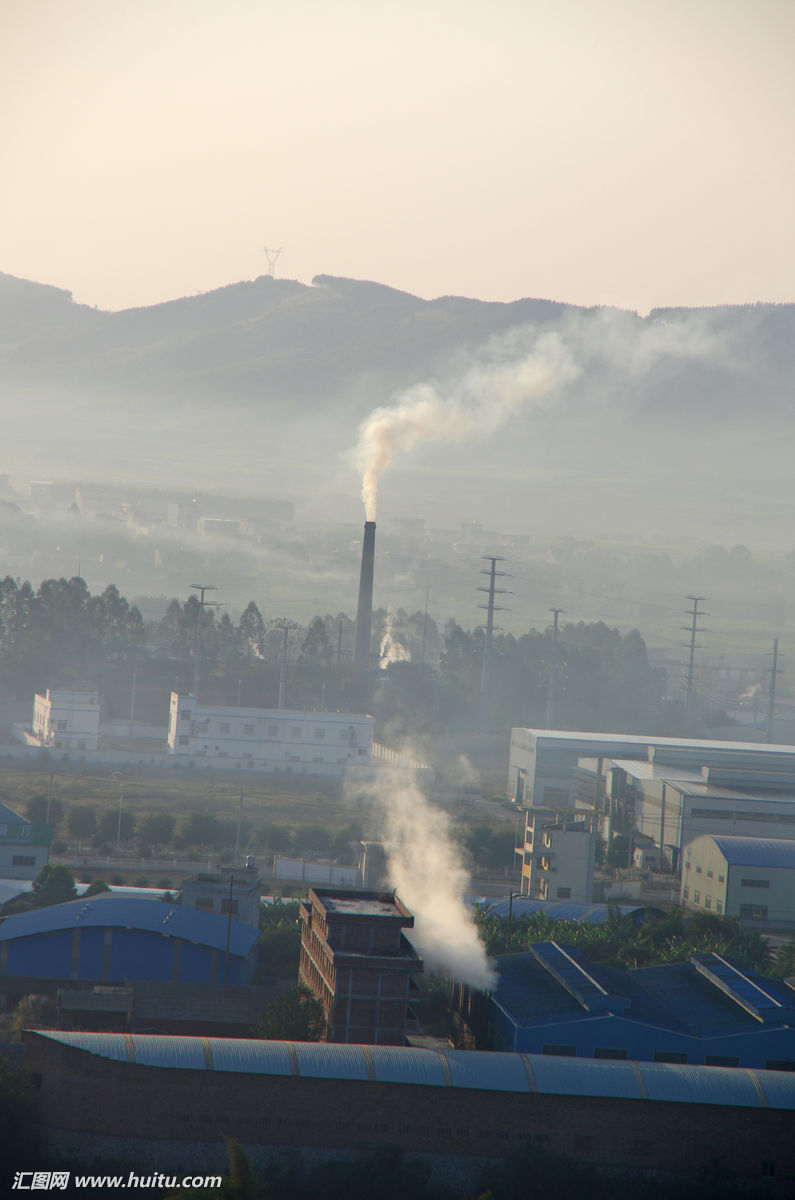dust: (331, 383, 491, 546)
